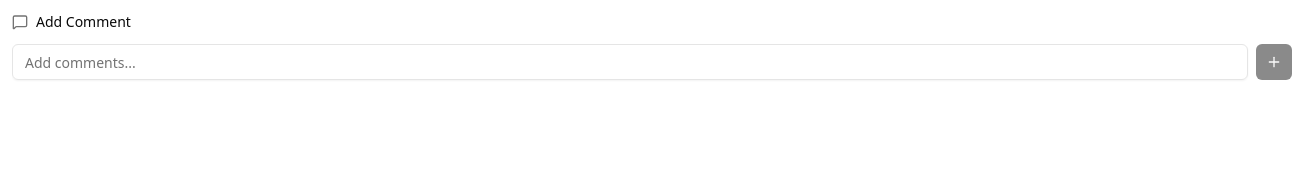
Test case: CommentContent › Adding Comments › clears input after successful add but keeps it visible
The width and height of the screenshot is (1304, 172).
Type "New comment" into the field with test id "comment-input". click: [630, 62]
box: [12, 44, 1248, 80]
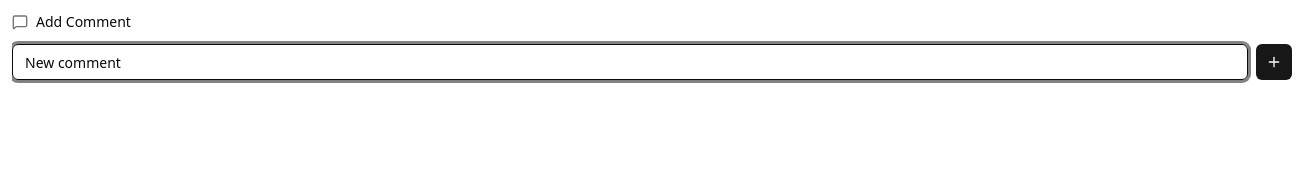
Press Enter
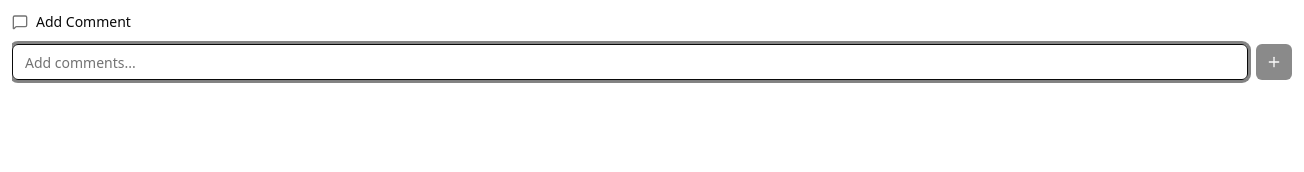
Expected: the field with test id "comment-input" is empty, [12, 44, 1248, 80]
